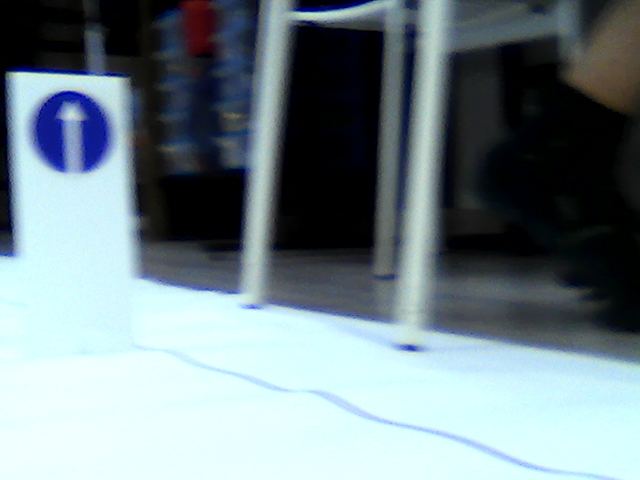forw: (29, 87, 112, 178)
